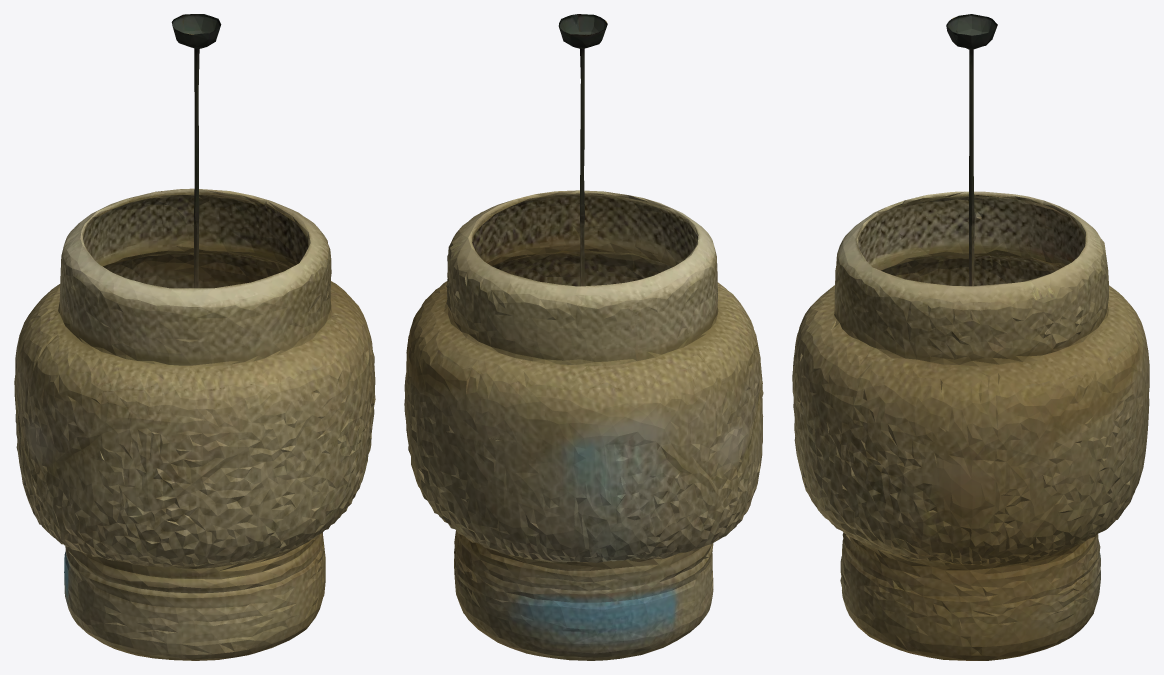
Rendered from ast_255fdfcd9c44.glb.
The picture shows the model from 3 angles, left to right: view 1: azimuth 30°, elevation 25°; view 2: azimuth 150°, elevation 25°; view 3: azimuth 270°, elevation 25°; orthographic projection.
Parts seen in each view (by area): view 1: geometry_0; view 2: geometry_0; view 3: geometry_0.
Boxes of the visible parts, bbox=[...] form: geometry_0: bbox=[14, 14, 375, 660]; geometry_0: bbox=[404, 14, 763, 660]; geometry_0: bbox=[792, 14, 1149, 660].
Bounding box in the file's own units: 0.4667 × 0.8447 × 0.4628.
Materials: 1 (1 with a texture image).
